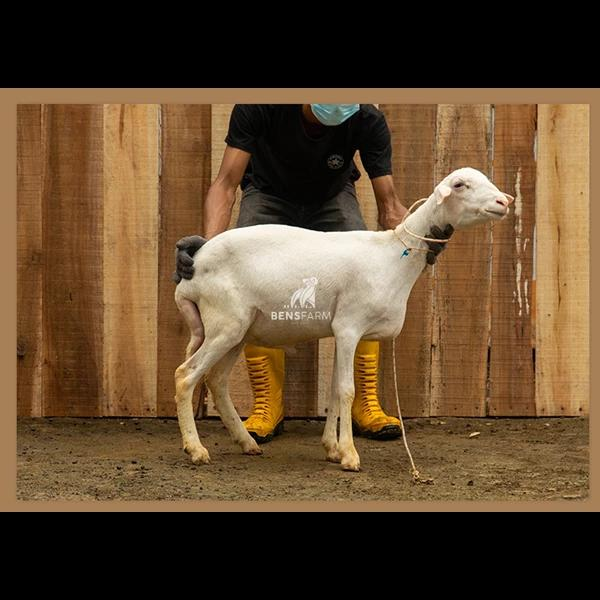Sheep: (420, 165, 513, 263)
